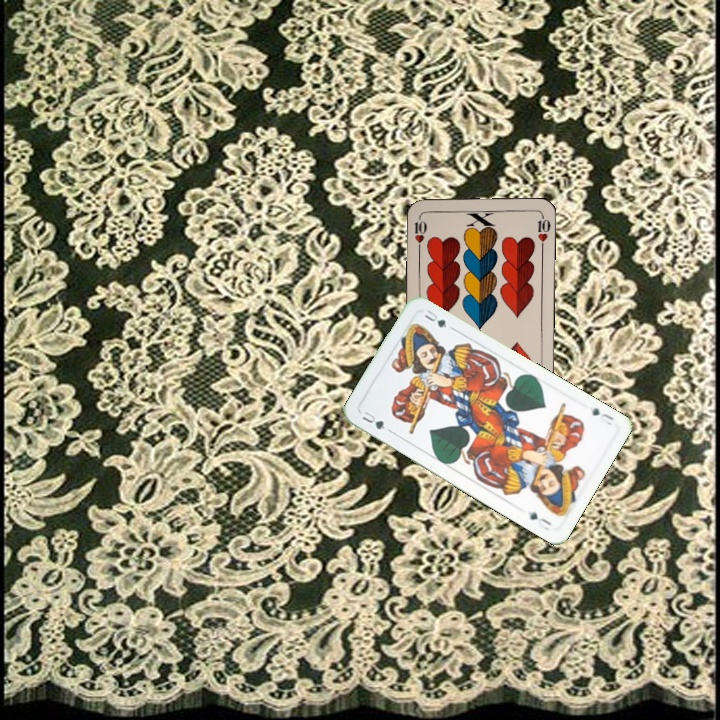GU: (358, 407, 393, 435), (588, 404, 616, 428)
H10: (410, 212, 429, 252)
